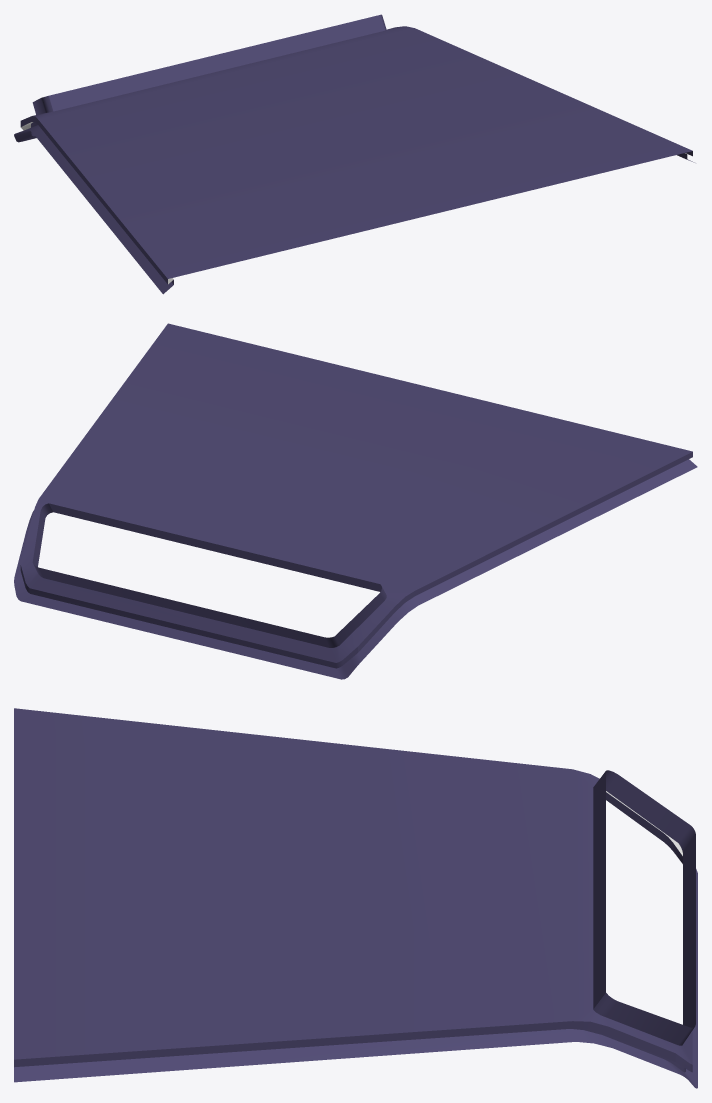
File: Mh_Ceiling_02.fbx
The picture shows the model from 3 angles, top to bottom: view 1: azimuth 30°, elevation 25°; view 2: azimuth 150°, elevation 25°; view 3: azimuth 270°, elevation 25°; orthographic projection. The views are drawn at different scales.
Visible parts, largest first — view 1: Mh_Ceiling_02; view 2: Mh_Ceiling_02; view 3: Mh_Ceiling_02.
Boxes of the visible parts, box(x1,y1,x2,y2) form: Mh_Ceiling_02: box(14, 14, 694, 294); Mh_Ceiling_02: box(14, 323, 697, 679); Mh_Ceiling_02: box(14, 708, 697, 1088).
Size of the model in its own units: 1991 by 257 by 1608.
